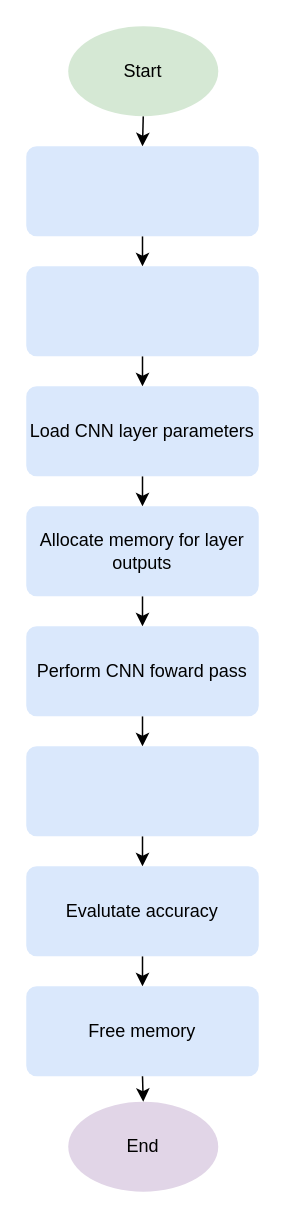
The diagram is 284 pixels wide and 1217 high, and some of its shapes have lost their labels. The centre of each missing label's shape, as x and y in pixels:
Compute predictions: (142,791)
Initialize CNN layers: (142,311)
Load CIFAR-10 dataset: (142,191)
